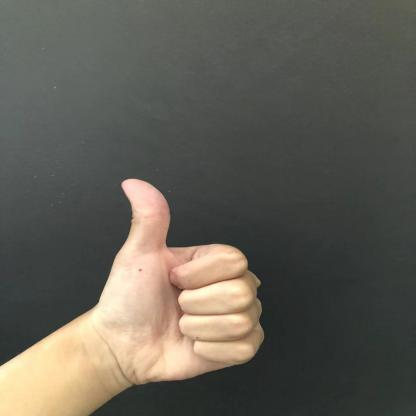Thumbs-Up: (59, 163, 294, 388)
